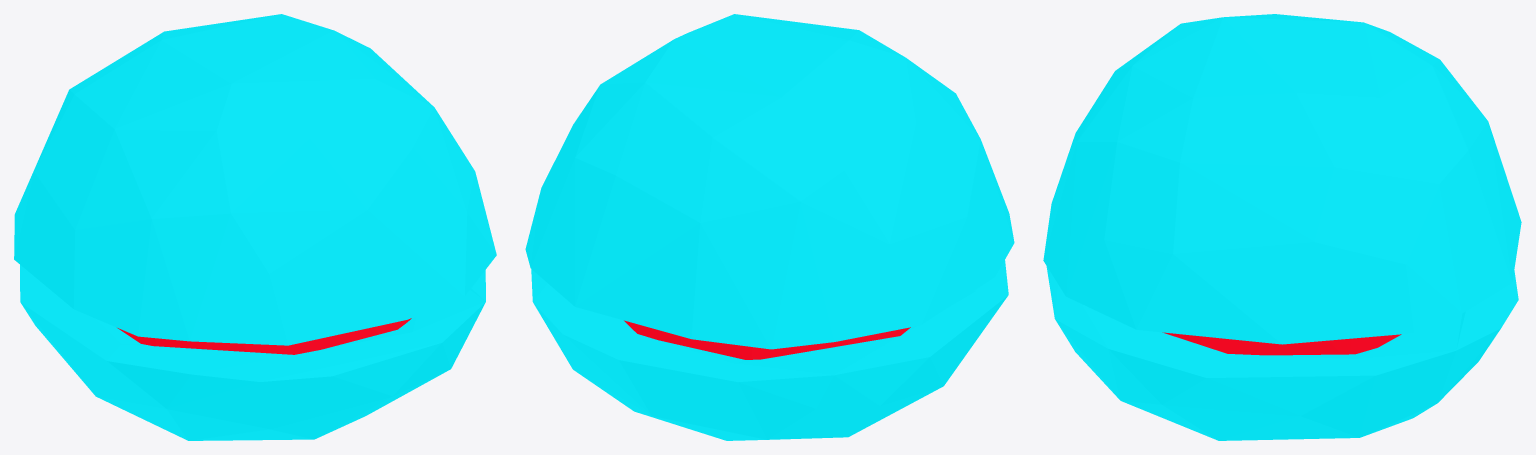
File: power_pill_trap.glb
3 views of the same model, side by side, from view 1: azimuth 30°, elevation 25°; view 2: azimuth 150°, elevation 25°; view 3: azimuth 270°, elevation 25° (orthographic). The views are drawn at different scales.
Visible parts, largest first — view 1: power_pill_trap; view 2: power_pill_trap; view 3: power_pill_trap.
Part boxes in pixels (bbox=[...]): power_pill_trap: bbox=[14, 14, 496, 440]; power_pill_trap: bbox=[525, 14, 1014, 440]; power_pill_trap: bbox=[1043, 14, 1521, 440].
Bounding box in the file's own units: 2.33 × 1.92 × 2.3.
